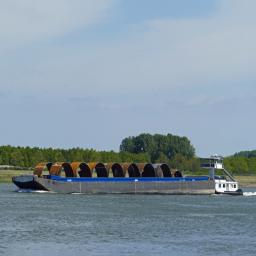tugboat: (188, 155, 246, 200)
